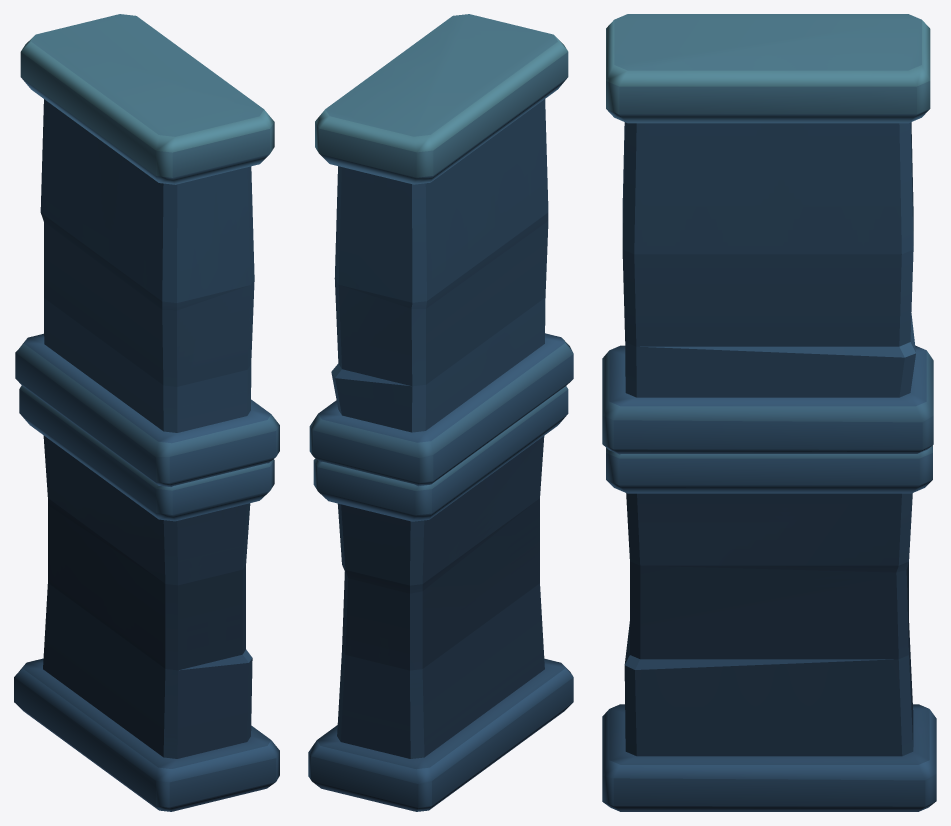
File: pillar_narrow_1.fbx
3 renders of one model, left to right at view 1: azimuth 30°, elevation 25°; view 2: azimuth 150°, elevation 25°; view 3: azimuth 270°, elevation 25°, orthographic. The views are drawn at different scales.
Visible parts, largest first — view 1: pillar_narrow_1; view 2: pillar_narrow_1; view 3: pillar_narrow_1.
Boxes of the visible parts, x1,y1,x2,y2 form: pillar_narrow_1: (14, 14, 279, 811); pillar_narrow_1: (308, 14, 573, 811); pillar_narrow_1: (602, 14, 936, 811).
Bounding box in the file's own units: 80.07 × 415 × 170.
